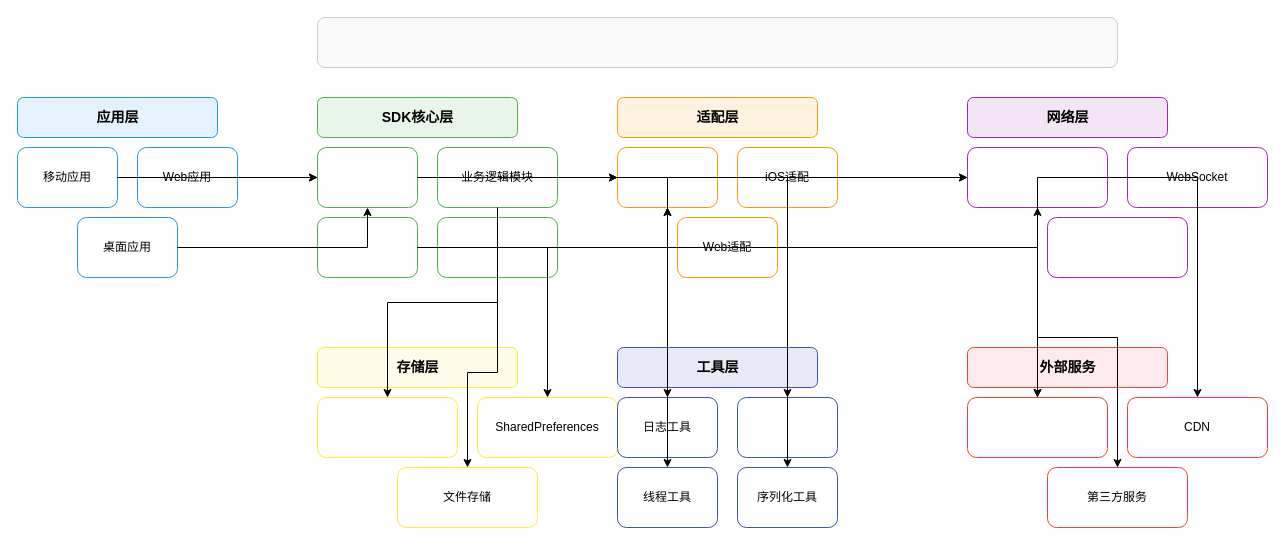
The diagram is 1285 pixels wide and 545 high, and some of its shapes have lost their labels. Here are the shapes that lost their labels. From the top down, the box of each, then its label:
(316, 16, 1118, 68): SDK架构图
(316, 146, 418, 208): 认证模块
(616, 146, 718, 208): Android适配
(966, 146, 1108, 208): HTTP客户端
(316, 216, 418, 278): 配置模块
(436, 216, 558, 278): 事件模块
(1046, 216, 1188, 278): 缓存策略
(316, 396, 458, 458): 本地数据库
(736, 396, 838, 458): 加密工具
(966, 396, 1108, 458): API服务器
